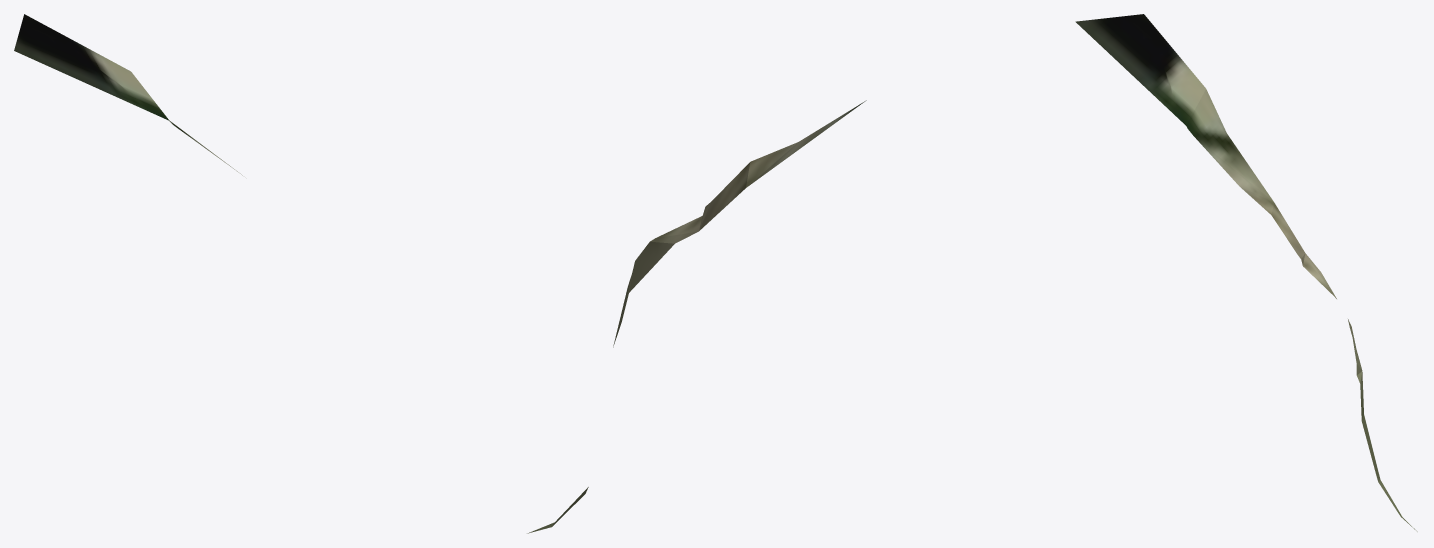
3 renders of one model, left to right at view 1: azimuth 30°, elevation 25°; view 2: azimuth 150°, elevation 25°; view 3: azimuth 330°, elevation 25°, orthographic. The views are drawn at different scales.
Size of the model in its own units: 13.35 by 15.84 by 2.06.
Materials: 1 (1 with a texture image).
